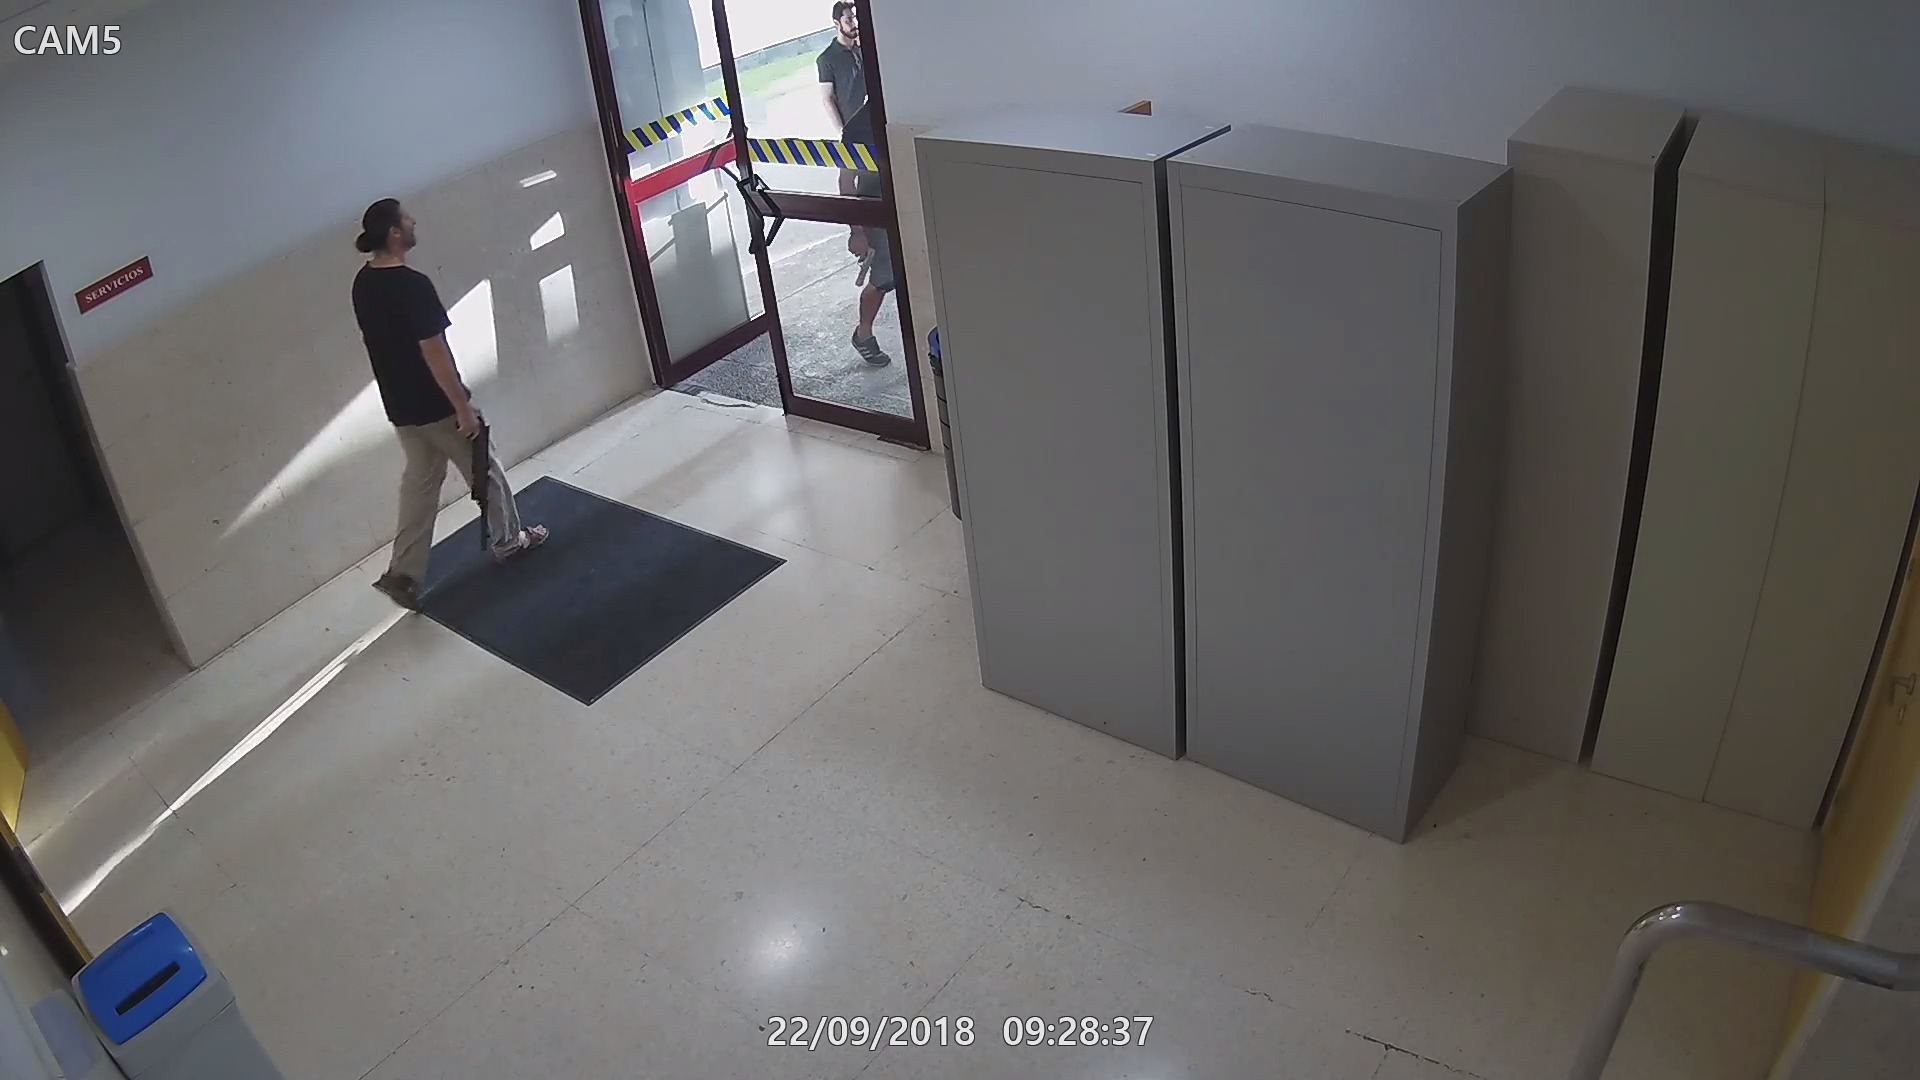pistol: (843, 235, 878, 289)
rifle: (454, 405, 495, 551)
